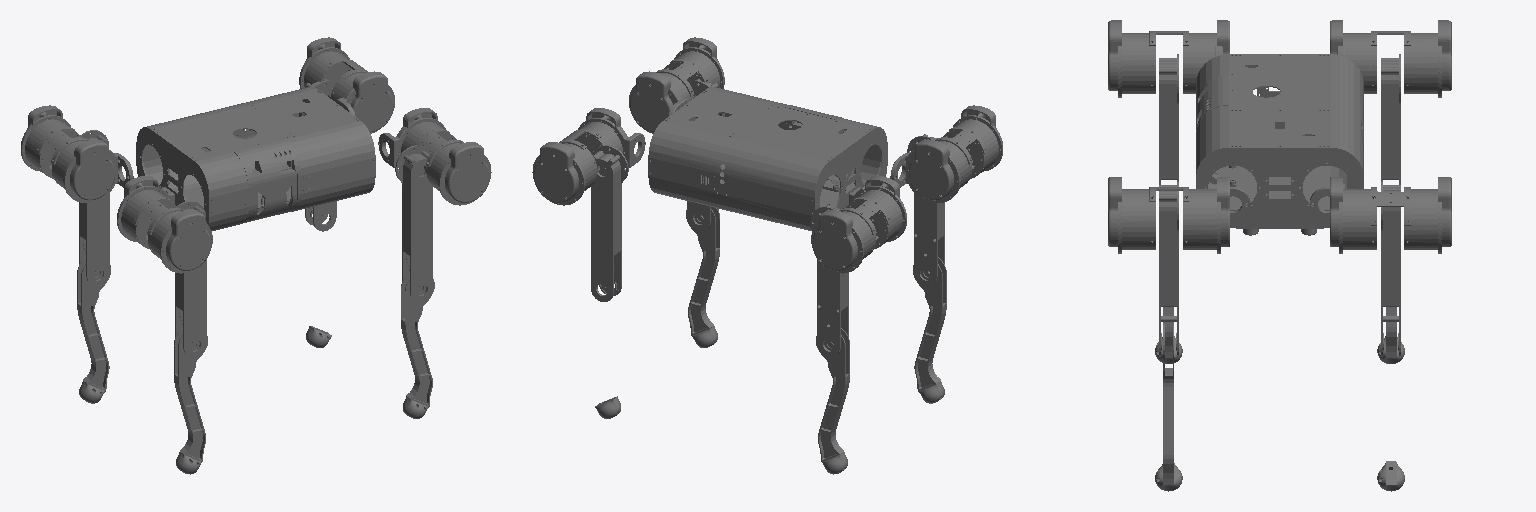
URDF robot description (m2_metal):
<?xml version="1.0" encoding="utf-8"?>
<robot name="m2_metal">
    <mujoco>
        <compiler 
        meshdir="../meshes"
        discardvisual="false"
    />
    </mujoco>
<!--
    <link name="world"/>
    <joint name="floating_base" type="floating">
      <origin rpy="0 0 0" xyz="0 0 0"/>
      <parent link="world"/>
      <child link="base"/>
    </joint>
-->
    <material name="black">
    <color rgba="0.0 0.0 0.0 1.0"/>
  </material>
  <material name="blue">
    <color rgba="0.156 0.55 0.96 1.0"/>
  </material>
  <material name="green">
    <color rgba="0.024 0.251 0.169 1.0"/>
  </material>
  <material name="gray">
    <color rgba="0.5 0.5 0.5 1.0"/>
  </material>
  <!-- Base link -->
  <link name="base">
    <inertial>
      <!-- <origin xyz="0.058346 -0.002972 0.001919" rpy="0 0 0"/> -->
      <!-- <mass value="5.18596663"/>
      <inertia ixx="0.02220107" ixy="-0.00019966" ixz="-0.00048929" iyy="0.05026338" iyz="-1.27e-05" izz="0.06413613"/> -->
      <!-- <mass value="8.18596663"/>
      <inertia ixx="0.066" ixy="-0.00" ixz="-0.000" iyy="0.16" iyz="0" izz="0.1"/> -->
      <origin xyz="-0.05 -0.01 0.12" rpy="0 0 0"/>
      <mass value="9.18596663"/>
      <inertia ixx="0.1844" ixy="-0.00040" ixz="-0.00096" iyy="0.254" iyz="-2.54e-05" izz="0.128"/>
    </inertial>
    <visual>
      <origin xyz="0 0 0" rpy="0 0 0"/>
      <geometry>
        <mesh filename="package://m2_metal_description/meshes/torso.STL"/>
      </geometry>
      <material name="gray"/>
    </visual>
      <collision>
        <origin xyz="0 0 0" rpy="0 0 0"/>
        <geometry>
          <box size="0.28 0.20 0.114"/>
        </geometry>
      </collision>
  </link>

  <!-- IMU link -->
  <link name="imu_link"/>
  <joint name="base_to_imu" type="fixed">
    <parent link="base"/>
    <child link="imu_link"/>
    <origin xyz="0 0 0" rpy="0 0 0"/>
  </joint>

  <joint name="FL_hip_joint" type="revolute">
    <parent link="base"/>
    <child link="FL_hip_link"/>
    <origin xyz="0.19085 0.06 0.00025" rpy="0 0 0"/>
    <axis xyz="1 0 0"/>
    <limit lower="-4.8" upper="4.9" effort="12" velocity="30"/>
  </joint>
  <link name="FL_hip_link">
    <inertial>
      <origin xyz="-0.0015538 0.077387 0.00058752" rpy="0 0 0"/>
      <mass value="1.11768"/>
      <inertia ixx="0.002832" ixy="0.000181" ixz="0" iyy="0.000918" iyz="3e-06" izz="0.002895"/>
    </inertial>
    <visual>
      <origin xyz="0 0 0" rpy="0 0 0"/>
      <geometry>
        <mesh filename="package://m2_metal_description/meshes/FL_hip.STL"/>
      </geometry>
      <material name="gray"/>
    </visual>
      <collision>
        <origin xyz="0.0 0.08 0.0" rpy="1.57 0 0"/>
        <geometry>
          <cylinder length="0.15" radius="0.04"/>
        </geometry>
      </collision>
  </link>
  <joint name="FL_thigh_joint" type="revolute">
    <parent link="FL_hip_link"/>
    <child link="FL_thigh_link"/>
    <origin xyz="0.0 0.0811 0.0" rpy="0 0 0"/>
    <axis xyz="0 1 0"/>
    <limit lower="-4.04" upper="4.188" effort="12" velocity="30"/>
  </joint>
  <link name="FL_thigh_link">
    <inertial>
      <origin xyz="0.0 -0.001531 -0.091689" rpy="0 0 0"/>
      <mass value="0.233244"/>
      <inertia ixx="0.001368" ixy="0.0" ixz="0.0" iyy="0.001379" iyz="-3.3e-05" izz="5.8e-05"/>
    </inertial>
    <visual>
      <origin xyz="0 0 0" rpy="0 0 0"/>
      <geometry>
        <mesh filename="package://m2_metal_description/meshes/FL_thigh.STL"/>
      </geometry>
      <material name="gray"/>
    </visual>
      <collision>
        <origin xyz="0.0 0.0 -0.09" rpy="0 0 0"/>
        <geometry>
          <box size="0.034 0.0245 0.10"/>
        </geometry>
      </collision>
  </link>
  <joint name="FL_calf_joint" type="revolute">
    <parent link="FL_thigh_link"/>
    <child link="FL_calf_link"/>
    <origin xyz="0.0 0.0 -0.1915" rpy="0 0 0"/>
    <axis xyz="0 1 0"/>
    <limit lower="-4.69" upper="4.91" effort="24" velocity="15"/>
  </joint>
  <link name="FL_calf_link">
    <inertial>
      <origin xyz="0.0030471 0.0 -0.078392" rpy="0 0 0"/>
      <mass value="0.121664"/>
      <inertia ixx="0.000496" ixy="0.0" ixz="-4.2e-05" iyy="0.000515" iyz="0.0" izz="2.4e-05"/>
    </inertial>
    <visual>
      <origin xyz="0 0 0" rpy="0 0 0"/>
      <geometry>
        <mesh filename="package://m2_metal_description/meshes/FL_calf.STL"/>
      </geometry>
      <material name="gray"/>
    </visual>
      <collision>
        <origin xyz="-0.01 0.0 -0.04" rpy="0 0.2 0"/>
        <geometry>
          <cylinder length="0.04" radius="0.015"/>
        </geometry>
      </collision>
      <collision>
        <origin xyz="-0.0 0.0 -0.105" rpy="0 -0.24 0"/>
        <geometry>
          <cylinder length="0.1" radius="0.012"/>
        </geometry>
      </collision>
  </link>
  <joint name="FL_foot_joint" type="fixed" dont_collapse="true">
    <parent link="FL_calf_link"/>
    <child link="FL_foot_link"/>
    <origin xyz="-0.00351 0.0 -0.1901" rpy="0 0 0"/>
    <axis xyz="0 0 0"/>
    <limit lower="0" upper="0" effort="1000" velocity="0"/>
  </joint>
  <link name="FL_foot_link">
    <inertial>
      <origin xyz="-0.0025566 0.00017773 -0.00416818" rpy="0 0 0"/>
      <mass value="0.02330447"/>
      <inertia ixx="2.62e-06" ixy="0.0" ixz="3.7e-07" iyy="2.62e-06" iyz="0.0" izz="3e-06"/>
    </inertial>
    <visual>
      <origin xyz="0 0 0" rpy="0 0 0"/>
      <geometry>
        <mesh filename="package://m2_metal_description/meshes/FL_foot.STL"/>
      </geometry>
      <material name="gray"/>
    </visual>
      <collision>
        <origin xyz="0.0 0.0 0.0" rpy="0 0 0"/>
        <geometry>
          <sphere radius="0.018"/>
        </geometry>
      </collision>
  </link>
  <link name="FL_foot_site"/>
  <joint name="FL_foot_site_joint" type="fixed"  dont_collapse="true">
    <origin rpy="0 0 0" xyz="-0.0 0 -0.016"/>
    <parent link="FL_foot_link"/>
    <child link="FL_foot_site"/>
    <axis xyz="0 0 1"/>
    <limit effort="1000" lower="0" upper="0" velocity="0"/>
  </joint>
  <joint name="FR_hip_joint" type="revolute">
    <parent link="base"/>
    <child link="FR_hip_link"/>
    <origin xyz="0.19085 -0.06 0.00025" rpy="0 0 0"/>
    <axis xyz="1 0 0"/>
    <limit lower="-4.8" upper="4.9" effort="12" velocity="30"/>
  </joint>
  <link name="FR_hip_link">
    <inertial>
      <origin xyz="-0.0015538 -0.077387 0.00058752" rpy="0 0 0"/>
      <mass value="1.11768"/>
      <inertia ixx="0.002832" ixy="-0.000181" ixz="0" iyy="0.000918" iyz="-3e-06" izz="0.002895"/>
    </inertial>
    <visual>
      <origin xyz="0 0 0" rpy="0 0 0"/>
      <geometry>
        <mesh filename="package://m2_metal_description/meshes/FR_hip.STL"/>
      </geometry>
      <material name="gray"/>
    </visual>
      <collision>
        <origin xyz="0.0 -0.08 0.0" rpy="1.57 0 0"/>
        <geometry>
          <cylinder length="0.15" radius="0.04"/>
        </geometry>
      </collision>
  </link>
  <joint name="FR_thigh_joint" type="revolute">
    <parent link="FR_hip_link"/>
    <child link="FR_thigh_link"/>
    <origin xyz="0.0 -0.0811 0.0" rpy="0 0 0"/>
    <axis xyz="0 1 0"/>
    <limit lower="-4.04" upper="4.188" effort="12" velocity="30"/>
  </joint>
  <link name="FR_thigh_link">
    <inertial>
      <origin xyz="0.0 0.001531 -0.091689" rpy="0 0 0"/>
      <mass value="0.233244"/>
      <inertia ixx="0.001368" ixy="-0.0" ixz="0.0" iyy="0.001379" iyz="3.3e-05" izz="5.8e-05"/>
    </inertial>
    <visual>
      <origin xyz="0 0 0" rpy="0 0 0"/>
      <geometry>
        <mesh filename="package://m2_metal_description/meshes/FR_thigh.STL"/>
      </geometry>
      <material name="gray"/>
    </visual>
      <collision>
        <origin xyz="0.0 0.0 -0.09" rpy="0 0 0"/>
        <geometry>
          <box size="0.034 0.0245 0.10"/>
        </geometry>
      </collision>
  </link>
  <joint name="FR_calf_joint" type="revolute">
    <parent link="FR_thigh_link"/>
    <child link="FR_calf_link"/>
    <origin xyz="0.0 -0.0 -0.1915" rpy="0 0 0"/>
    <axis xyz="0 1 0"/>
    <limit lower="-4.69" upper="4.91" effort="24" velocity="15"/>
  </joint>
  <link name="FR_calf_link">
    <inertial>
      <origin xyz="0.0030471 0.0 -0.078392" rpy="0 0 0"/>
      <mass value="0.121664"/>
      <inertia ixx="0.000496" ixy="-0.0" ixz="-4.2e-05" iyy="0.000515" iyz="-0.0" izz="2.4e-05"/>
    </inertial>
    <visual>
      <origin xyz="0 0 0" rpy="0 0 0"/>
      <geometry>
        <mesh filename="package://m2_metal_description/meshes/FR_calf.STL"/>
      </geometry>
      <material name="gray"/>
    </visual>
      <collision>
        <origin xyz="-0.01 0.0 -0.04" rpy="0 0.2 0"/>
        <geometry>
          <cylinder length="0.04" radius="0.015"/>
        </geometry>
      </collision>
      <collision>
        <origin xyz="-0.0 0.0 -0.105" rpy="0 -0.24 0"/>
        <geometry>
          <cylinder length="0.1" radius="0.012"/>
        </geometry>
      </collision>
  </link>
  <joint name="FR_foot_joint" type="fixed" dont_collapse="true">
    <parent link="FR_calf_link"/>
    <child link="FR_foot_link"/>
    <origin xyz="-0.00351 0.0 -0.1901" rpy="0 0 0"/>
    <axis xyz="0 0 0"/>
    <limit lower="0" upper="0" effort="1000" velocity="0"/>
  </joint>
  <link name="FR_foot_link">
    <inertial>
      <origin xyz="-0.0025566 0.00017773 -0.00416818" rpy="0 0 0"/>
      <mass value="0.02330447"/>
      <inertia ixx="2.62e-06" ixy="-0.0" ixz="3.7e-07" iyy="2.62e-06" iyz="-0.0" izz="3e-06"/>
    </inertial>
    <visual>
      <origin xyz="0 0 0" rpy="0 0 0"/>
      <geometry>
        <mesh filename="package://m2_metal_description/meshes/FR_foot.STL"/>
      </geometry>
      <material name="gray"/>
    </visual>
      <collision>
        <origin xyz="0.0 0.0 0.0" rpy="0 0 0"/>
        <geometry>
          <sphere radius="0.018"/>
        </geometry>
      </collision>
  </link>
  <link name="FR_foot_site"/>
  <joint name="FR_foot_site_joint" type="fixed"  dont_collapse="true">
    <origin rpy="0 0 0" xyz="-0.0 0 -0.016"/>
    <parent link="FR_foot_link"/>
    <child link="FR_foot_site"/>
    <axis xyz="0 0 1"/>
    <limit effort="1000" lower="0" upper="0" velocity="0"/>
  </joint>
  <joint name="RL_hip_joint" type="revolute">
    <parent link="base"/>
    <child link="RL_hip_link"/>
    <origin xyz="-0.19085 0.06 0.00025" rpy="0 0 0"/>
    <axis xyz="1 0 0"/>
    <limit lower="-4.8" upper="4.9" effort="12" velocity="30"/>
  </joint>
  <link name="RL_hip_link">
    <inertial>
      <origin xyz="0.0015538 0.077387 0.00058752" rpy="0 0 0"/>
      <mass value="1.11768"/>
      <inertia ixx="0.002832" ixy="0.000181" ixz="0" iyy="0.000918" iyz="3e-06" izz="0.002895"/>
    </inertial>
    <visual>
      <origin xyz="0 0 0" rpy="0 0 0"/>
      <geometry>
        <mesh filename="package://m2_metal_description/meshes/RL_hip.STL"/>
      </geometry>
      <material name="gray"/>
    </visual>
      <collision>
        <origin xyz="-0.0 0.08 0.0" rpy="1.57 0 0"/>
        <geometry>
          <cylinder length="0.15" radius="0.04"/>
        </geometry>
      </collision>
  </link>
  <joint name="RL_thigh_joint" type="revolute">
    <parent link="RL_hip_link"/>
    <child link="RL_thigh_link"/>
    <origin xyz="-0.0 0.0811 0.0" rpy="0 0 0"/>
    <axis xyz="0 1 0"/>
    <limit lower="-4.04" upper="4.188" effort="12" velocity="30"/>
  </joint>
  <link name="RL_thigh_link">
    <inertial>
      <origin xyz="-0.0 -0.001531 -0.091689" rpy="0 0 0"/>
      <mass value="0.233244"/>
      <inertia ixx="0.001368" ixy="0.0" ixz="0.0" iyy="0.001379" iyz="-3.3e-05" izz="5.8e-05"/>
    </inertial>
    <visual>
      <origin xyz="0 0 0" rpy="0 0 0"/>
      <geometry>
        <mesh filename="package://m2_metal_description/meshes/RL_thigh.STL"/>
      </geometry>
      <material name="gray"/>
    </visual>
      <collision>
        <origin xyz="0.0 0.0 -0.09" rpy="0 0 0"/>
        <geometry>
          <box size="0.034 0.0245 0.10"/>
        </geometry>
      </collision>
  </link>
  <joint name="RL_calf_joint" type="revolute">
    <parent link="RL_thigh_link"/>
    <child link="RL_calf_link"/>
    <origin xyz="-0.0 0.0 -0.1915" rpy="0 0 0"/>
    <axis xyz="0 1 0"/>
    <limit lower="-4.69" upper="4.91" effort="24" velocity="15"/>
  </joint>
  <link name="RL_calf_link">
    <inertial>
      <origin xyz="0.0030471 0.0 -0.078392" rpy="0 0 0"/>
      <mass value="0.121664"/>
      <inertia ixx="0.000496" ixy="0.0" ixz="-4.2e-05" iyy="0.000515" iyz="0.0" izz="2.4e-05"/>
    </inertial>
    <visual>
      <origin xyz="0 0 0" rpy="0 0 0"/>
      <geometry>
        <mesh filename="package://m2_metal_description/meshes/RL_calf.STL"/>
      </geometry>
      <material name="gray"/>
    </visual>
      <collision>
        <origin xyz="-0.01 0.0 -0.04" rpy="0 0.2 0"/>
        <geometry>
          <cylinder length="0.04" radius="0.015"/>
        </geometry>
      </collision>
      <collision>
        <origin xyz="-0.0 0.0 -0.105" rpy="0 -0.24 0"/>
        <geometry>
          <cylinder length="0.1" radius="0.012"/>
        </geometry>
      </collision>
  </link>
  <joint name="RL_foot_joint" type="fixed" dont_collapse="true">
    <parent link="RL_calf_link"/>
    <child link="RL_foot_link"/>
    <origin xyz="-0.00351 0.0 -0.1901" rpy="0 0 0"/>
    <axis xyz="0 0 0"/>
    <limit lower="0" upper="0" effort="1000" velocity="0"/>
  </joint>
  <link name="RL_foot_link">
    <inertial>
      <origin xyz="-0.0025566 0.00017773 -0.00416818" rpy="0 0 0"/>
      <mass value="0.02330447"/>
      <inertia ixx="2.62e-06" ixy="0.0" ixz="3.7e-07" iyy="2.62e-06" iyz="0.0" izz="3e-06"/>
    </inertial>
    <visual>
      <origin xyz="0 0 0" rpy="0 0 0"/>
      <geometry>
        <mesh filename="package://m2_metal_description/meshes/RL_foot.STL"/>
      </geometry>
      <material name="gray"/>
    </visual>
      <collision>
        <origin xyz="0.0 0.0 0.0" rpy="0 0 0"/>
        <geometry>
          <sphere radius="0.018"/>
        </geometry>
      </collision>
  </link>
  <link name="RL_foot_site"/>
  <joint name="RL_foot_site_joint" type="fixed"  dont_collapse="true">
    <origin rpy="0 0 0" xyz="-0.0 0 -0.016"/>
    <parent link="RL_foot_link"/>
    <child link="RL_foot_site"/>
    <axis xyz="0 0 1"/>
    <limit effort="1000" lower="0" upper="0" velocity="0"/>
  </joint>
  <joint name="RR_hip_joint" type="revolute">
    <parent link="base"/>
    <child link="RR_hip_link"/>
    <origin xyz="-0.19085 -0.06 0.00025" rpy="0 0 0"/>
    <axis xyz="1 0 0"/>
    <limit lower="-4.8" upper="4.9" effort="12" velocity="30"/>
  </joint>
  <link name="RR_hip_link">
    <inertial>
      <origin xyz="0.0015538 -0.077387 0.00058752" rpy="0 0 0"/>
      <mass value="1.11768"/>
      <inertia ixx="0.002832" ixy="-0.000181" ixz="0" iyy="0.000918" iyz="-3e-06" izz="0.002895"/>
    </inertial>
    <visual>
      <origin xyz="0 0 0" rpy="0 0 0"/>
      <geometry>
        <mesh filename="package://m2_metal_description/meshes/RR_hip.STL"/>
      </geometry>
      <material name="gray"/>
    </visual>
      <collision>
        <origin xyz="-0.0 -0.08 0.0" rpy="1.57 0 0"/>
        <geometry>
          <cylinder length="0.15" radius="0.04"/>
        </geometry>
      </collision>
  </link>
  <joint name="RR_thigh_joint" type="revolute">
    <parent link="RR_hip_link"/>
    <child link="RR_thigh_link"/>
    <origin xyz="-0.0 -0.0811 0.0" rpy="0 0 0"/>
    <axis xyz="0 1 0"/>
    <limit lower="-4.04" upper="4.188" effort="12" velocity="30"/>
  </joint>
  <link name="RR_thigh_link">
    <inertial>
      <origin xyz="-0.0 0.001531 -0.091689" rpy="0 0 0"/>
      <mass value="0.233244"/>
      <inertia ixx="0.001368" ixy="-0.0" ixz="0.0" iyy="0.001379" iyz="3.3e-05" izz="5.8e-05"/>
    </inertial>
    <visual>
      <origin xyz="0 0 0" rpy="0 0 0"/>
      <geometry>
        <mesh filename="package://m2_metal_description/meshes/RR_thigh.STL"/>
      </geometry>
      <material name="gray"/>
    </visual>
      <collision>
        <origin xyz="0.0 0.0 -0.09" rpy="0 0 0"/>
        <geometry>
          <box size="0.034 0.0245 0.10"/>
        </geometry>
      </collision>
  </link>
  <joint name="RR_calf_joint" type="revolute">
    <parent link="RR_thigh_link"/>
    <child link="RR_calf_link"/>
    <origin xyz="-0.0 -0.0 -0.1915" rpy="0 0 0"/>
    <axis xyz="0 1 0"/>
    <limit lower="-4.69" upper="4.91" effort="24" velocity="15"/>
  </joint>
  <link name="RR_calf_link">
    <inertial>
      <origin xyz="0.0030471 0.0 -0.078392" rpy="0 0 0"/>
      <mass value="0.121664"/>
      <inertia ixx="0.000496" ixy="-0.0" ixz="-4.2e-05" iyy="0.000515" iyz="-0.0" izz="2.4e-05"/>
    </inertial>
    <visual>
      <origin xyz="0 0 0" rpy="0 0 0"/>
      <geometry>
        <mesh filename="package://m2_metal_description/meshes/RR_calf.STL"/>
      </geometry>
      <material name="gray"/>
    </visual>
      <collision>
        <origin xyz="-0.01 0.0 -0.04" rpy="0 0.2 0"/>
        <geometry>
          <cylinder length="0.04" radius="0.015"/>
        </geometry>
      </collision>
      <collision>
        <origin xyz="-0.0 0.0 -0.105" rpy="0 -0.24 0"/>
        <geometry>
          <cylinder length="0.1" radius="0.012"/>
        </geometry>
      </collision>
  </link>
  <joint name="RR_foot_joint" type="fixed" dont_collapse="true">
    <parent link="RR_calf_link"/>
    <child link="RR_foot_link"/>
    <origin xyz="-0.00351 0.0 -0.1901" rpy="0 0 0"/>
    <axis xyz="0 0 0"/>
    <limit lower="0" upper="0" effort="1000" velocity="0"/>
  </joint>
  <link name="RR_foot_link">
    <inertial>
      <origin xyz="-0.0025566 0.00017773 -0.00416818" rpy="0 0 0"/>
      <mass value="0.02330447"/>
      <inertia ixx="2.62e-06" ixy="-0.0" ixz="3.7e-07" iyy="2.62e-06" iyz="-0.0" izz="3e-06"/>
    </inertial>
    <visual>
      <origin xyz="0 0 0" rpy="0 0 0"/>
      <geometry>
        <mesh filename="package://m2_metal_description/meshes/RR_foot.STL"/>
      </geometry>
      <material name="gray"/>
    </visual>
      <collision>
        <origin xyz="0.0 0.0 0.0" rpy="0 0 0"/>
        <geometry>
          <sphere radius="0.018"/>
        </geometry>
      </collision>
  </link>
  <link name="RR_foot_site"/>
  <joint name="RR_foot_site_joint" type="fixed"  dont_collapse="true">
    <origin rpy="0 0 0" xyz="-0.0 0 -0.016"/>
    <parent link="RR_foot_link"/>
    <child link="RR_foot_site"/>
    <axis xyz="0 0 1"/>
    <limit effort="1000" lower="0" upper="0" velocity="0"/>
  </joint>

  <!-- Transmissions for all joints -->
  <transmission name="FL_hip_trans">
    <type>transmission_interface/SimpleTransmission</type>
    <joint name="FL_hip_joint">
      <hardwareInterface>hardware_interface/EffortJointInterface</hardwareInterface>
    </joint>
    <actuator name="FL_hip_motor">
      <mechanicalReduction>1</mechanicalReduction>
    </actuator>
  </transmission>
  <transmission name="FL_thigh_trans">
    <type>transmission_interface/SimpleTransmission</type>
    <joint name="FL_thigh_joint">
      <hardwareInterface>hardware_interface/EffortJointInterface</hardwareInterface>
    </joint>
    <actuator name="FL_thigh_motor">
      <mechanicalReduction>1</mechanicalReduction>
    </actuator>
  </transmission>
  <transmission name="FL_calf_trans">
    <type>transmission_interface/SimpleTransmission</type>
    <joint name="FL_calf_joint">
      <hardwareInterface>hardware_interface/EffortJointInterface</hardwareInterface>
    </joint>
    <actuator name="FL_calf_motor">
      <mechanicalReduction>1</mechanicalReduction>
    </actuator>
  </transmission>
  <transmission name="FR_hip_trans">
    <type>transmission_interface/SimpleTransmission</type>
    <joint name="FR_hip_joint">
      <hardwareInterface>hardware_interface/EffortJointInterface</hardwareInterface>
    </joint>
    <actuator name="FR_hip_motor">
      <mechanicalReduction>1</mechanicalReduction>
    </actuator>
  </transmission>
  <transmission name="FR_thigh_trans">
    <type>transmission_interface/SimpleTransmission</type>
    <joint name="FR_thigh_joint">
      <hardwareInterface>hardware_interface/EffortJointInterface</hardwareInterface>
    </joint>
    <actuator name="FR_thigh_motor">
      <mechanicalReduction>1</mechanicalReduction>
    </actuator>
  </transmission>
  <transmission name="FR_calf_trans">
    <type>transmission_interface/SimpleTransmission</type>
    <joint name="FR_calf_joint">
      <hardwareInterface>hardware_interface/EffortJointInterface</hardwareInterface>
    </joint>
    <actuator name="FR_calf_motor">
      <mechanicalReduction>1</mechanicalReduction>
    </actuator>
  </transmission>
  <transmission name="RL_hip_trans">
    <type>transmission_interface/SimpleTransmission</type>
    <joint name="RL_hip_joint">
      <hardwareInterface>hardware_interface/EffortJointInterface</hardwareInterface>
    </joint>
    <actuator name="RL_hip_motor">
      <mechanicalReduction>1</mechanicalReduction>
    </actuator>
  </transmission>
  <transmission name="RL_thigh_trans">
    <type>transmission_interface/SimpleTransmission</type>
    <joint name="RL_thigh_joint">
      <hardwareInterface>hardware_interface/EffortJointInterface</hardwareInterface>
    </joint>
    <actuator name="RL_thigh_motor">
      <mechanicalReduction>1</mechanicalReduction>
    </actuator>
  </transmission>
  <transmission name="RL_calf_trans">
    <type>transmission_interface/SimpleTransmission</type>
    <joint name="RL_calf_joint">
      <hardwareInterface>hardware_interface/EffortJointInterface</hardwareInterface>
    </joint>
    <actuator name="RL_calf_motor">
      <mechanicalReduction>1</mechanicalReduction>
    </actuator>
  </transmission>
  <transmission name="RR_hip_trans">
    <type>transmission_interface/SimpleTransmission</type>
    <joint name="RR_hip_joint">
      <hardwareInterface>hardware_interface/EffortJointInterface</hardwareInterface>
    </joint>
    <actuator name="RR_hip_motor">
      <mechanicalReduction>1</mechanicalReduction>
    </actuator>
  </transmission>
  <transmission name="RR_thigh_trans">
    <type>transmission_interface/SimpleTransmission</type>
    <joint name="RR_thigh_joint">
      <hardwareInterface>hardware_interface/EffortJointInterface</hardwareInterface>
    </joint>
    <actuator name="RR_thigh_motor">
      <mechanicalReduction>1</mechanicalReduction>
    </actuator>
  </transmission>
  <transmission name="RR_calf_trans">
    <type>transmission_interface/SimpleTransmission</type>
    <joint name="RR_calf_joint">
      <hardwareInterface>hardware_interface/EffortJointInterface</hardwareInterface>
    </joint>
    <actuator name="RR_calf_motor">
      <mechanicalReduction>1</mechanicalReduction>
    </actuator>
  </transmission>
</robot>

--- What the picture shows (computed from the rendered views, not written in the file) ---
Views: 3 orthographic renders of the robot side by side, from view 1: azimuth 30°, elevation 25°; view 2: azimuth 150°, elevation 25°; view 3: azimuth 270°, elevation 25°.
Robot: m2_metal — 22 links, 21 joints (12 revolute, 9 fixed); root link base; default pose: every joint at zero.
Visible links, largest first — view 1: base, RL_hip_link, RR_hip_link, FR_hip_link, FL_hip_link, FR_thigh_link, RR_thigh_link, RL_thigh_link, RL_calf_link, FR_calf_link, RR_calf_link, FL_thigh_link; view 2: base, RR_hip_link, RL_hip_link, FL_hip_link, FL_thigh_link, FR_hip_link, RL_thigh_link, RR_thigh_link, RR_calf_link, RL_calf_link, FR_calf_link, FR_thigh_link; view 3: base, FL_hip_link, FR_hip_link, RL_hip_link, RR_hip_link, FR_thigh_link, FL_thigh_link, RL_thigh_link, RR_thigh_link, FR_calf_link, FL_foot_link.
Boxes of the visible links, bbox=[...] form: base: bbox=[136, 87, 375, 230]; RL_hip_link: bbox=[21, 105, 133, 202]; RR_hip_link: bbox=[117, 176, 212, 273]; FR_hip_link: bbox=[378, 108, 491, 205]; FL_hip_link: bbox=[299, 37, 394, 133]; FR_thigh_link: bbox=[395, 145, 432, 301]; RR_thigh_link: bbox=[175, 201, 206, 357]; RL_thigh_link: bbox=[79, 130, 109, 286]; RL_calf_link: bbox=[77, 257, 110, 390]; FR_calf_link: bbox=[401, 273, 434, 406]; RR_calf_link: bbox=[174, 328, 207, 461]; FL_thigh_link: bbox=[305, 79, 336, 231]; base: bbox=[648, 87, 887, 230]; RR_hip_link: bbox=[890, 105, 1002, 202]; RL_hip_link: bbox=[811, 176, 906, 273]; FL_hip_link: bbox=[532, 108, 645, 205]; FL_thigh_link: bbox=[591, 145, 628, 301]; FR_hip_link: bbox=[629, 37, 724, 133]; RL_thigh_link: bbox=[810, 205, 848, 357]; RR_thigh_link: bbox=[907, 134, 944, 286]; RR_calf_link: bbox=[913, 257, 946, 390]; RL_calf_link: bbox=[816, 328, 849, 461]; FR_calf_link: bbox=[686, 207, 719, 335]; FR_thigh_link: bbox=[687, 79, 718, 231]; base: bbox=[1196, 54, 1363, 235]; FL_hip_link: bbox=[1310, 177, 1451, 253]; FR_hip_link: bbox=[1108, 177, 1249, 253]; RL_hip_link: bbox=[1330, 20, 1451, 97]; RR_hip_link: bbox=[1108, 20, 1229, 97]; FR_thigh_link: bbox=[1159, 181, 1178, 356]; FL_thigh_link: bbox=[1381, 181, 1400, 356]; RL_thigh_link: bbox=[1381, 54, 1400, 184]; RR_thigh_link: bbox=[1159, 54, 1178, 184]; FR_calf_link: bbox=[1163, 322, 1173, 484]; FL_foot_link: bbox=[1377, 461, 1404, 491].
Size in the robot's own frame: 0.5562 by 0.4357 by 0.4584 metres.
16 mesh visuals loaded from 17 distinct referenced files (16 binary STL); not drawn: 1 (reference not matched to a file when rendering).
